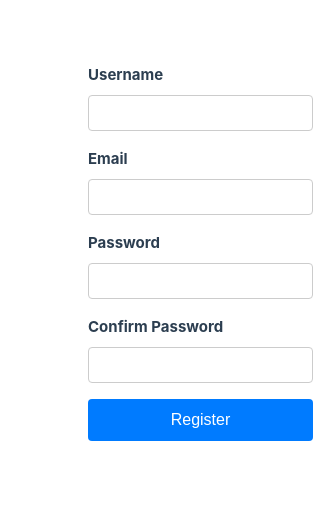
Test case: Registration Form Integration Tests › Form Validation Integration › validates username and email format together
This screenshot has width=330, height=511.
Test invalid username and email combination
In the field with id "username": (200, 113) [88,95,313,131], type "a@"
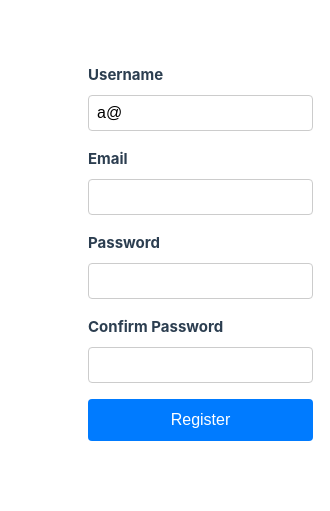
In the field with id "email": (200, 197) [88,179,313,215], type "invalid-email"
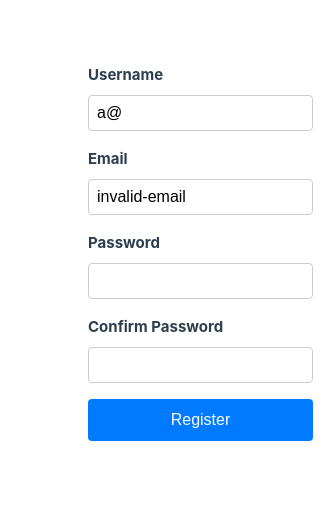
Submit the form, box [88,65,313,441]
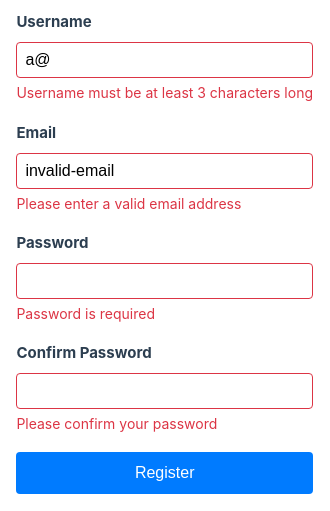
Expected: the form shows "Username must be at least 3 characters long", [16,84,313,101]
Expected: the form shows "Please enter a valid email address", [16,195,241,212]
